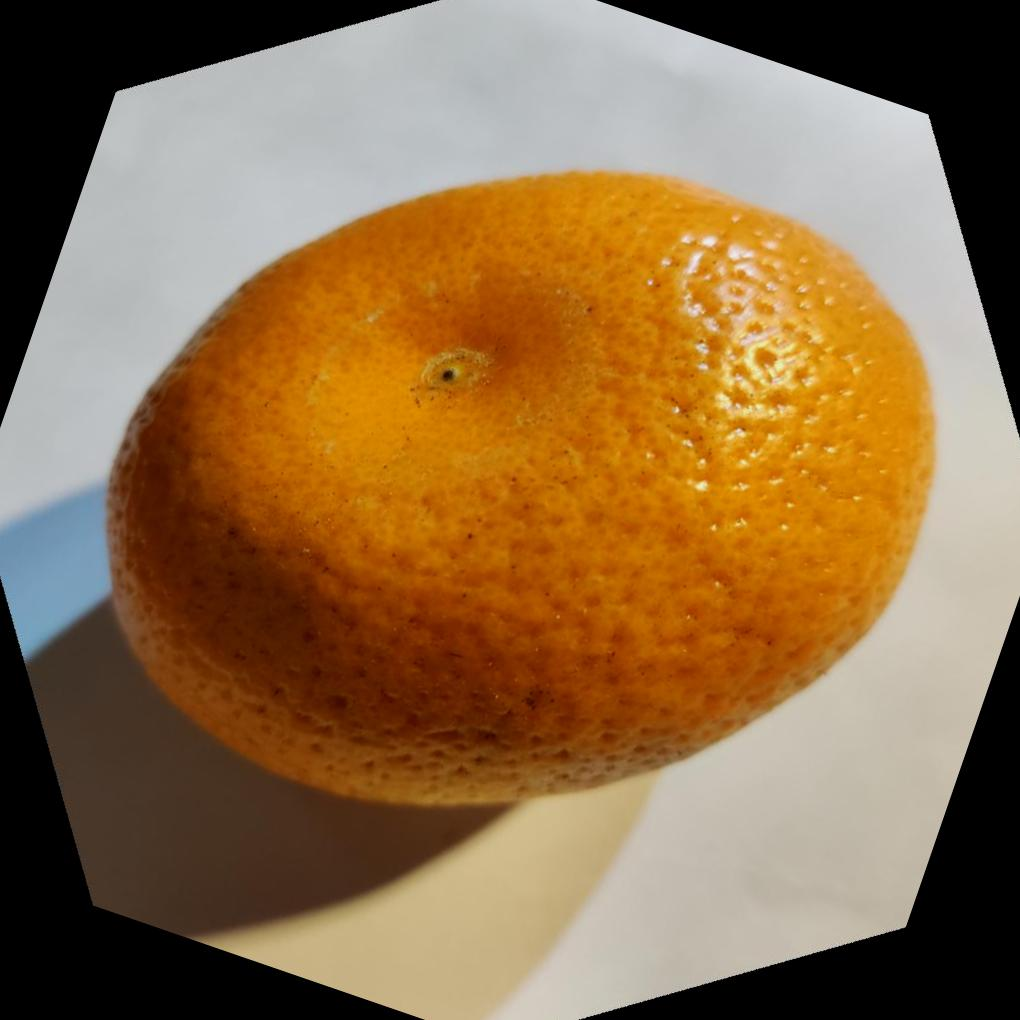FreshGuava: (99, 167, 937, 808)
